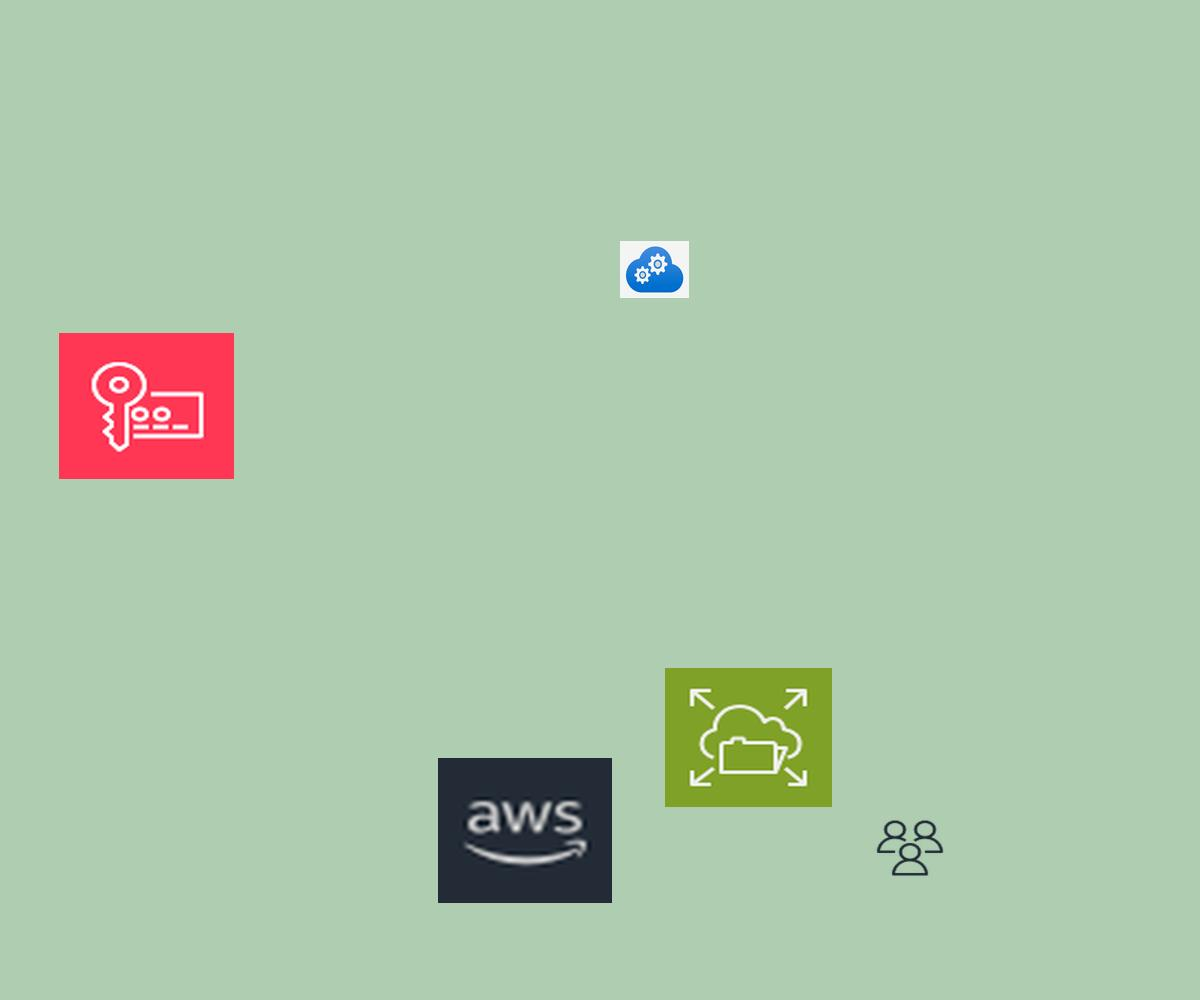AWS-Cloud-logo: (438, 758, 612, 903)
AWS-EFS: (665, 668, 832, 807)
AWS-Key-Management-Service: (59, 333, 234, 479)
AWS-Res_Users: (874, 818, 946, 878)
Azure_cloud_services: (620, 241, 689, 298)
